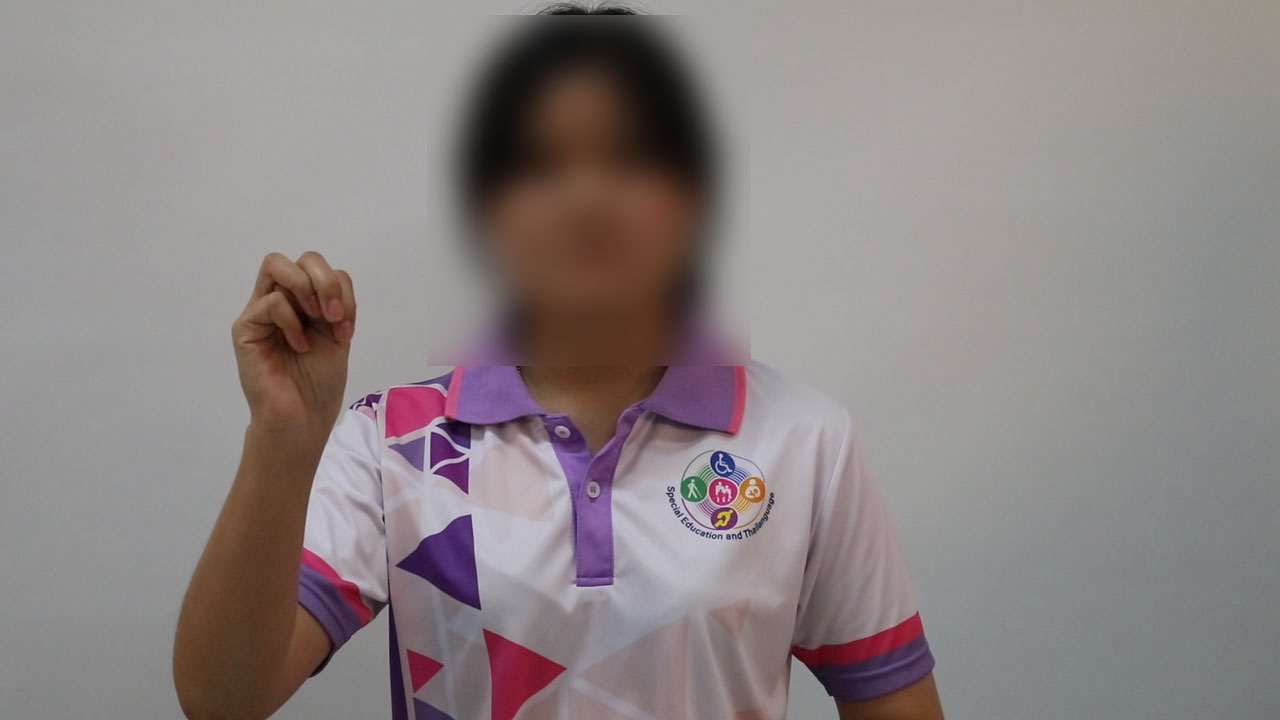mor: (224, 226, 364, 457)
